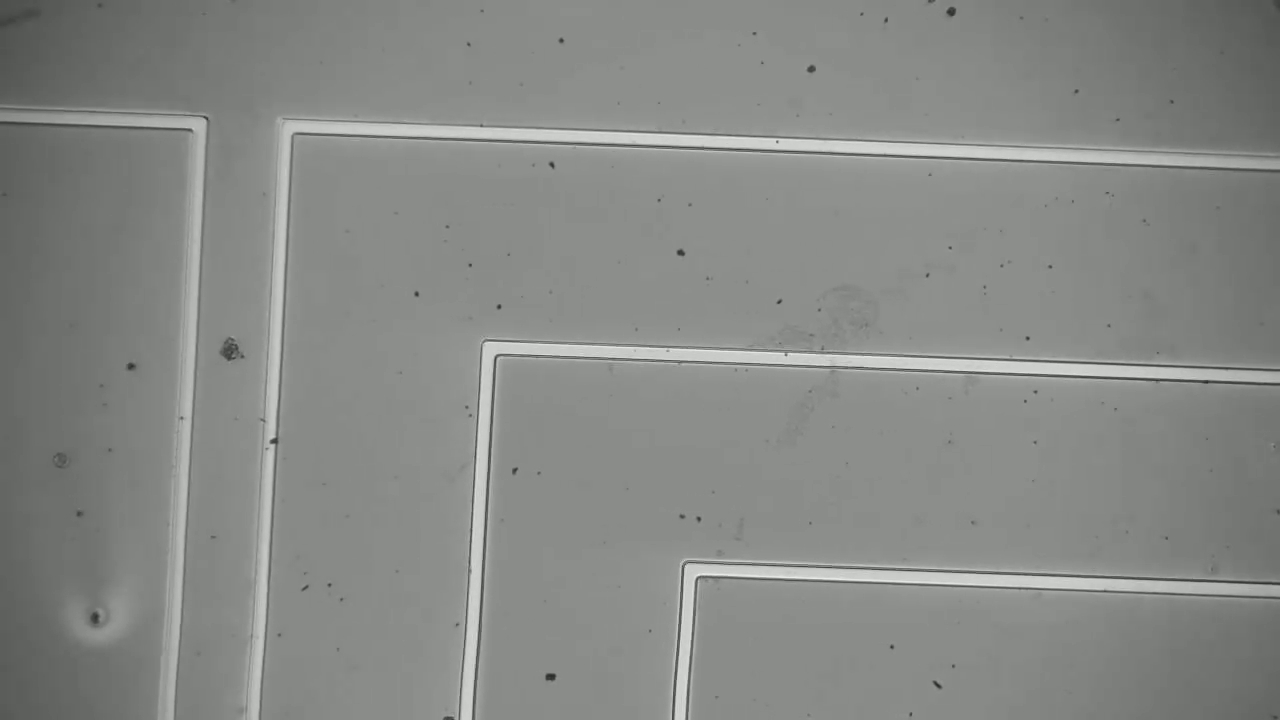stains_enbedded: (259, 431, 283, 451)
